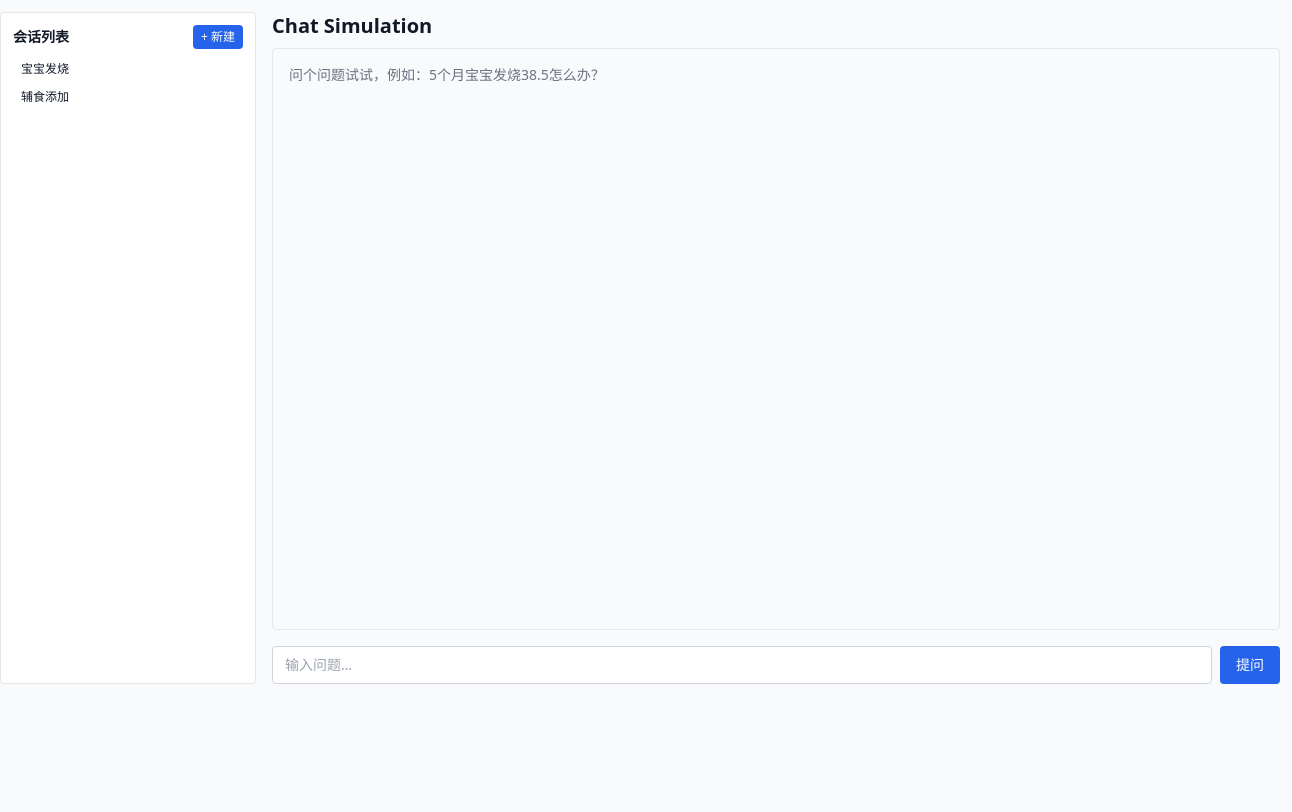
ChatSim 多 session UI › 点击 session 切到该 session（清空 messages）
Click the button "宝宝发烧".
click(128, 69)  # box [21, 61, 235, 77]
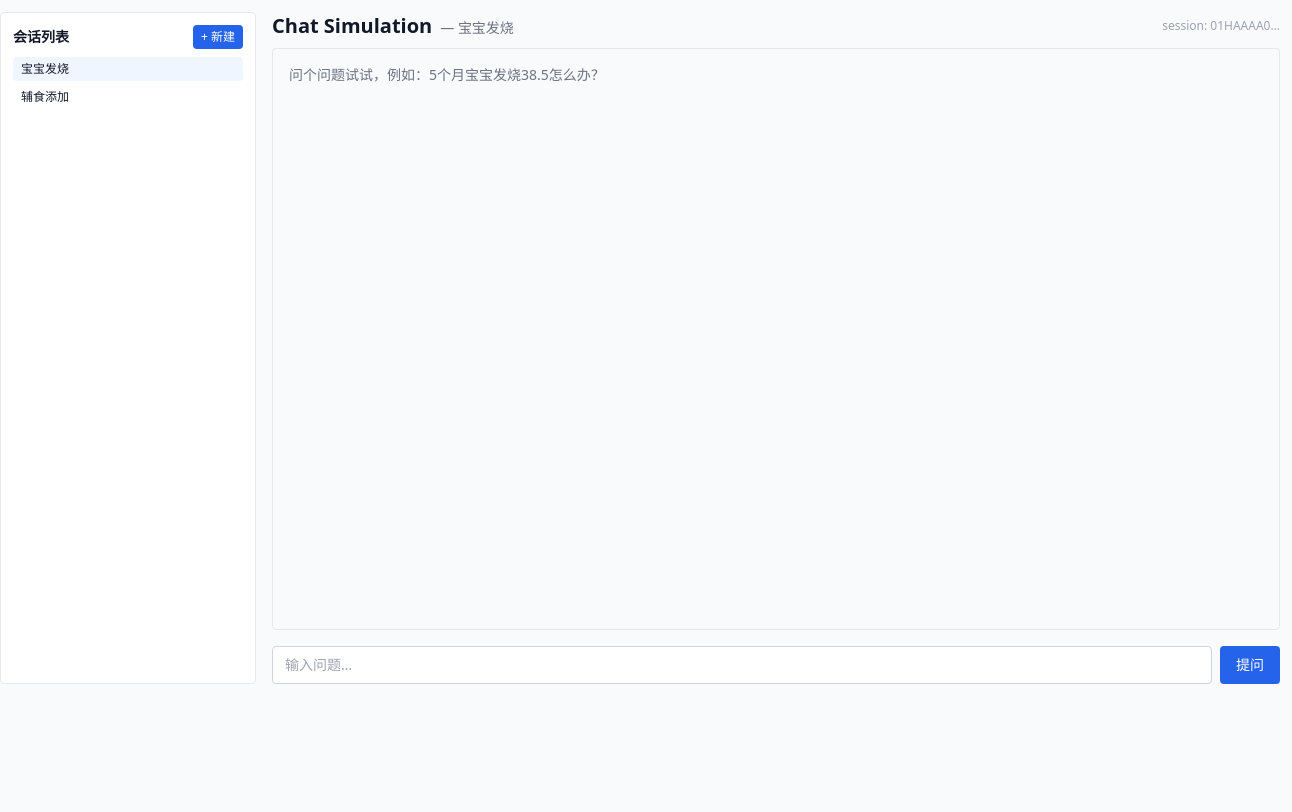
Expected: the text "session: 01HAAAA0…" is shown, [1162, 18, 1280, 34]
